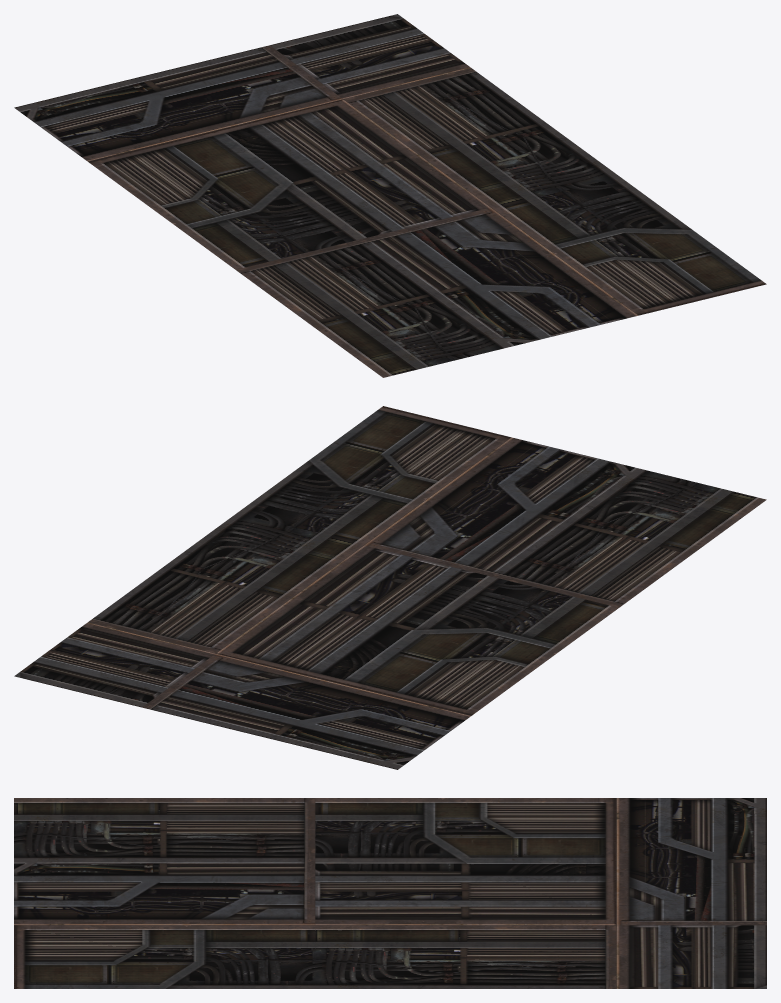
The model's file is Ceiling_A_11.fbx.
The picture shows the model from 3 angles, top to bottom: view 1: azimuth 30°, elevation 25°; view 2: azimuth 150°, elevation 25°; view 3: azimuth 270°, elevation 25°; orthographic projection.
Visible parts, largest first — view 1: Ceiling_A_11; view 2: Ceiling_A_11; view 3: Ceiling_A_11.
Part boxes in pixels (left/top/right/bottom): Ceiling_A_11: left=14, top=14, right=766, bottom=377; Ceiling_A_11: left=14, top=406, right=766, bottom=769; Ceiling_A_11: left=14, top=798, right=766, bottom=988.
Size of the model in its own units: 300 by 0.0178 by 500.
